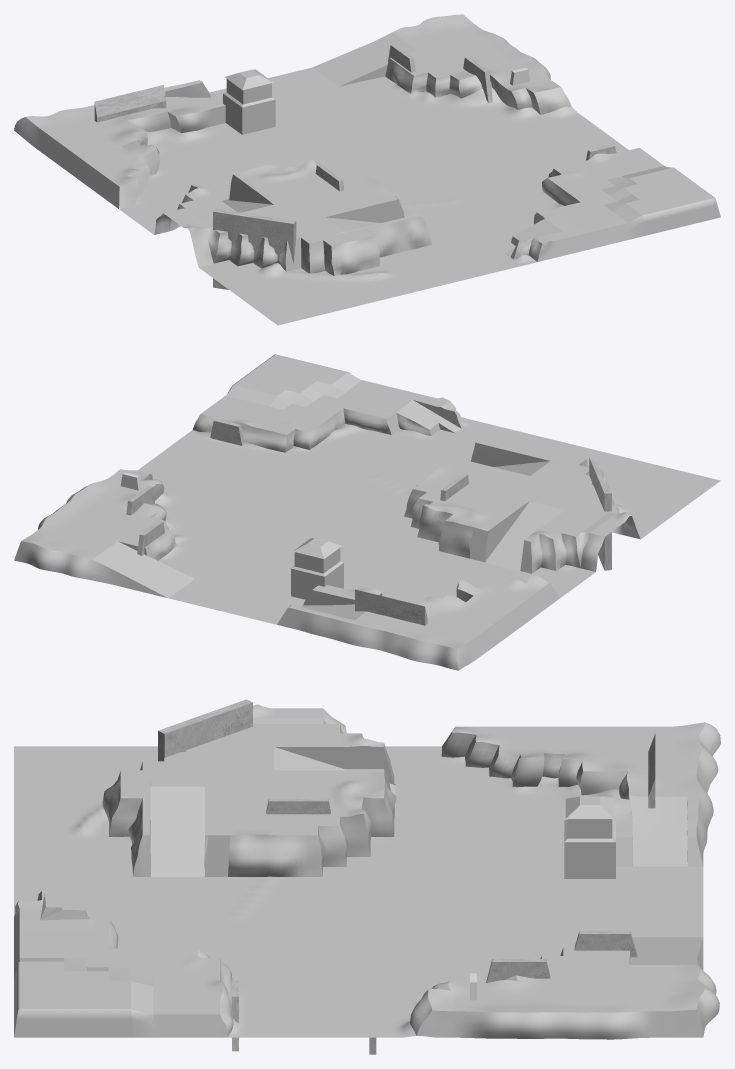
Rendered from maps.fbx.
3 views of the same model, one above another, from view 1: azimuth 30°, elevation 25°; view 2: azimuth 150°, elevation 25°; view 3: azimuth 270°, elevation 25° (orthographic). The views are drawn at different scales.
Visible parts, largest first — view 1: Grid, Cube, Cube.012, Cube.010, Cube.007; view 2: Grid, Cube, Cube.010, Cube.012, Cube.013; view 3: Grid, Cube, Cube.012, Cube.005, Cube.007, Cube.011.
Boxes of the visible parts, x1,y1,x2,y2 form: Grid: (14,14,720,325); Cube: (223,69,275,134); Cube.012: (213,208,296,289); Cube.010: (94,85,166,122); Cube.007: (463,56,492,103); Grid: (14,354,720,670); Cube: (291,538,343,599); Cube.010: (355,589,427,625); Cube.012: (589,457,611,570); Cube.013: (210,419,243,445); Grid: (14,704,720,1039); Cube: (564,796,615,878); Cube.012: (158,699,252,761); Cube.005: (574,931,637,957); Cube.007: (486,959,550,982); Cube.011: (266,798,330,814).
Bounding box in the file's own units: 6682 × 1233 × 6676.
